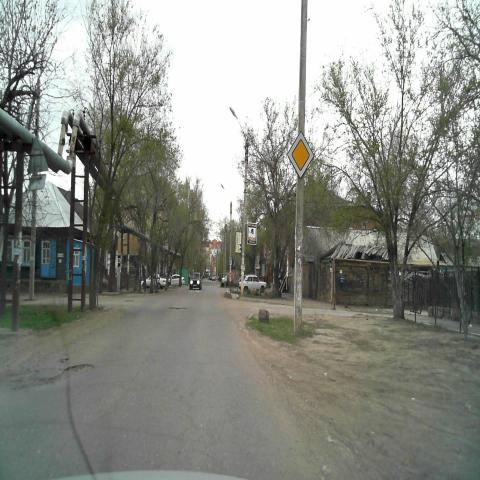2_1: (286, 129, 314, 180)
